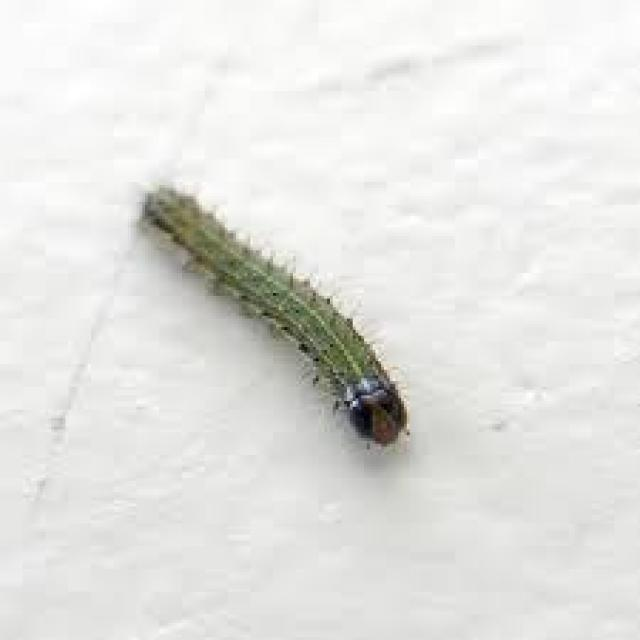armyworm: (138, 180, 422, 453)
